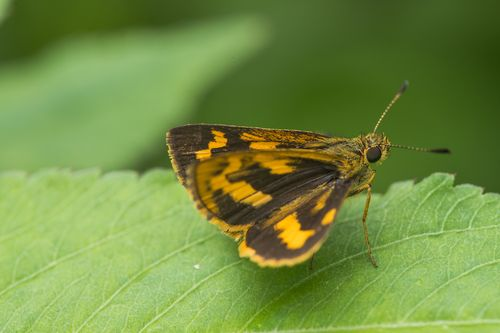Hesperiidae: (163, 80, 452, 271)
